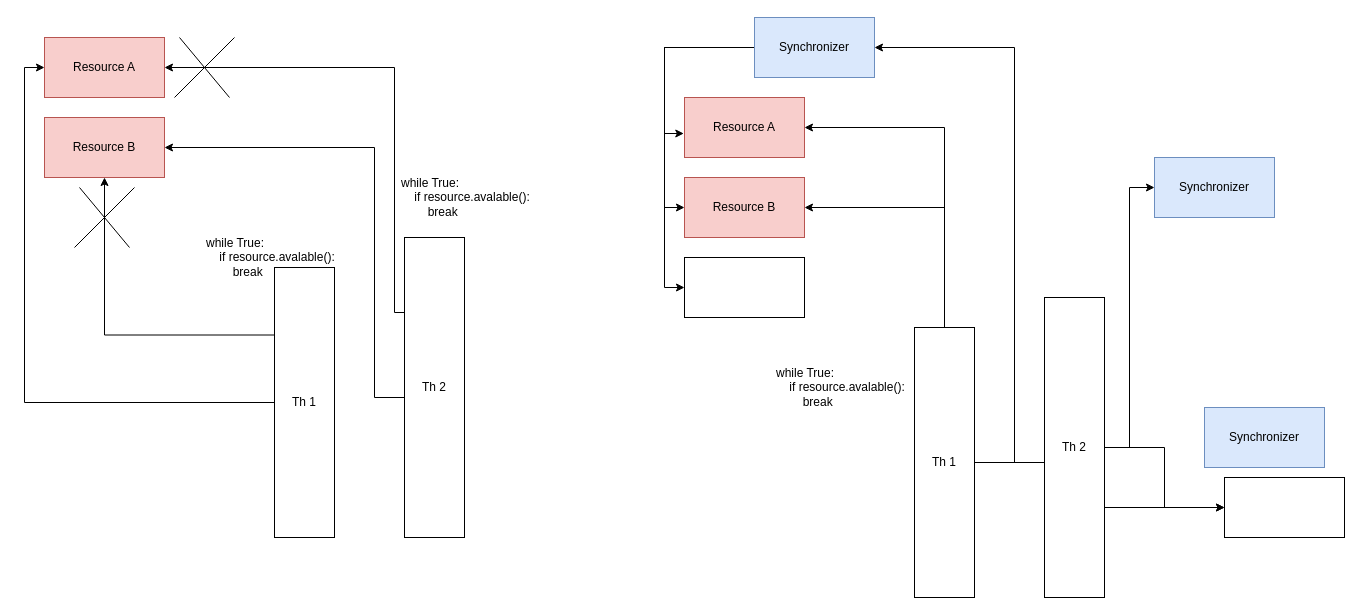
Image size: 1362x615. Some labels were removed from this diagram. The centre of each missing label's shape, as x and y in pixels:
"Resource C" goes at point 744,287.
"Resource D" goes at point 1284,507.
